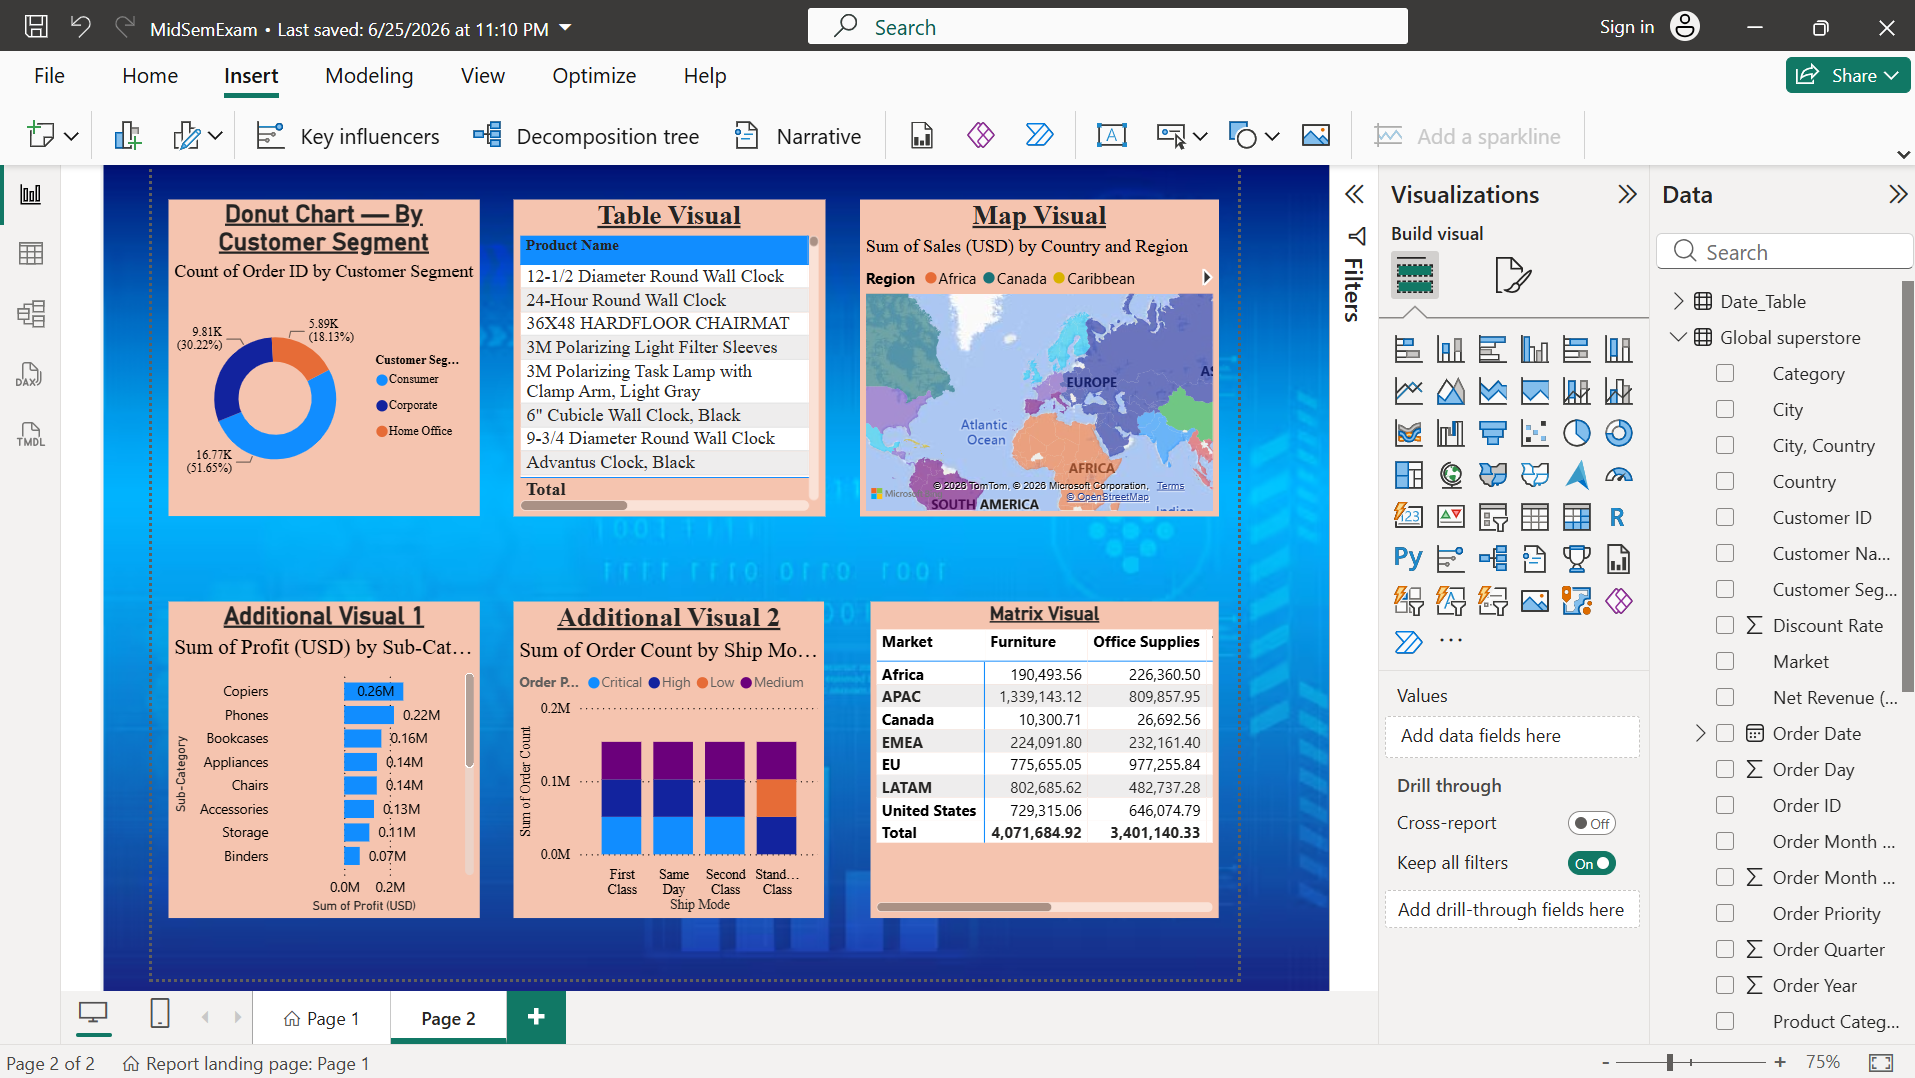

This screenshot's page, from the dashboard's own definition file:
{"tool":"powerbi","page":{"name":"Page 2","canvas":[960,720],"ordinal":1},"visuals":[{"type":"donutChart","title":"Donut Chart — By Customer Segment","fields":{"Category":["Global superstore.Customer Segment"],"Y":["CountNonNull(Global superstore.Order ID)"]},"box":[14.6,30.5,275,280],"z":0},{"type":"tableEx","title":"Table Visual","fields":{"Values":["Global superstore.Product Name","Global superstore.Category","Sum(Global superstore.Profit (USD))","Sum(Global superstore.Quantity)","Sum(Global superstore.Sales (USD))"]},"box":[319.8,30.5,275,280],"z":1000},{"type":"filledMap","title":"Map Visual","fields":{"Category":["Global superstore.Country"],"Series":["Global superstore.Region"]},"box":[626.3,30.5,317.1,280],"z":2000},{"type":"columnChart","title":"Additional Visual 2","fields":{"Category":["Global superstore.Ship Mode"],"Y":["Sum(Sales_by_Market_Category.Order Count)"],"Series":["Global superstore.Order Priority"]},"box":[319.8,386.1,274.6,280],"z":3000},{"type":"clusteredBarChart","title":"Additional Visual 1 ","fields":{"Y":["Sum(Global superstore.Profit (USD))"],"Category":["Global superstore.Sub-Category"]},"box":[15,386,275,280],"z":4000},{"type":"pivotTable","title":"Matrix Visual","fields":{"Rows":["Global superstore.Market"],"Columns":["Global superstore.Category"],"Values":["Sum(Global superstore.Sales (USD))"]},"box":[635.5,386.1,307.8,280],"z":5000}]}

Visuals, with their boxes on the page's 960x720 design canvas (x1, y1, x2, y2). These are canvas units, not pixel positions in the 1915x1078 screenshot, which may show the page scaled, cropped or inside an application window:
"Donut Chart — By Customer Segment" donutChart: 15,30,290,310
"Table Visual" tableEx: 320,30,595,310
"Map Visual" filledMap: 626,30,943,310
"Additional Visual 2" columnChart: 320,386,594,666
"Additional Visual 1 " clusteredBarChart: 15,386,290,666
"Matrix Visual" pivotTable: 636,386,943,666
